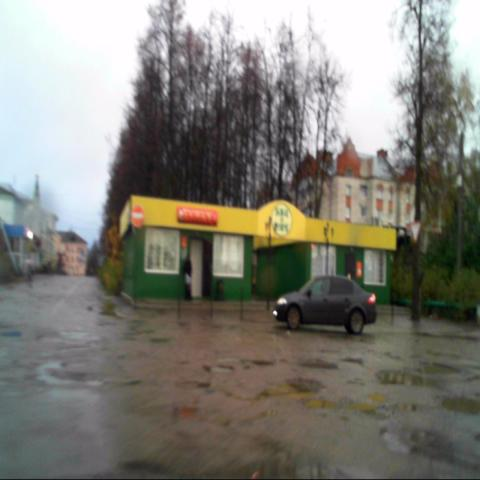2_4: (409, 221, 421, 243)
